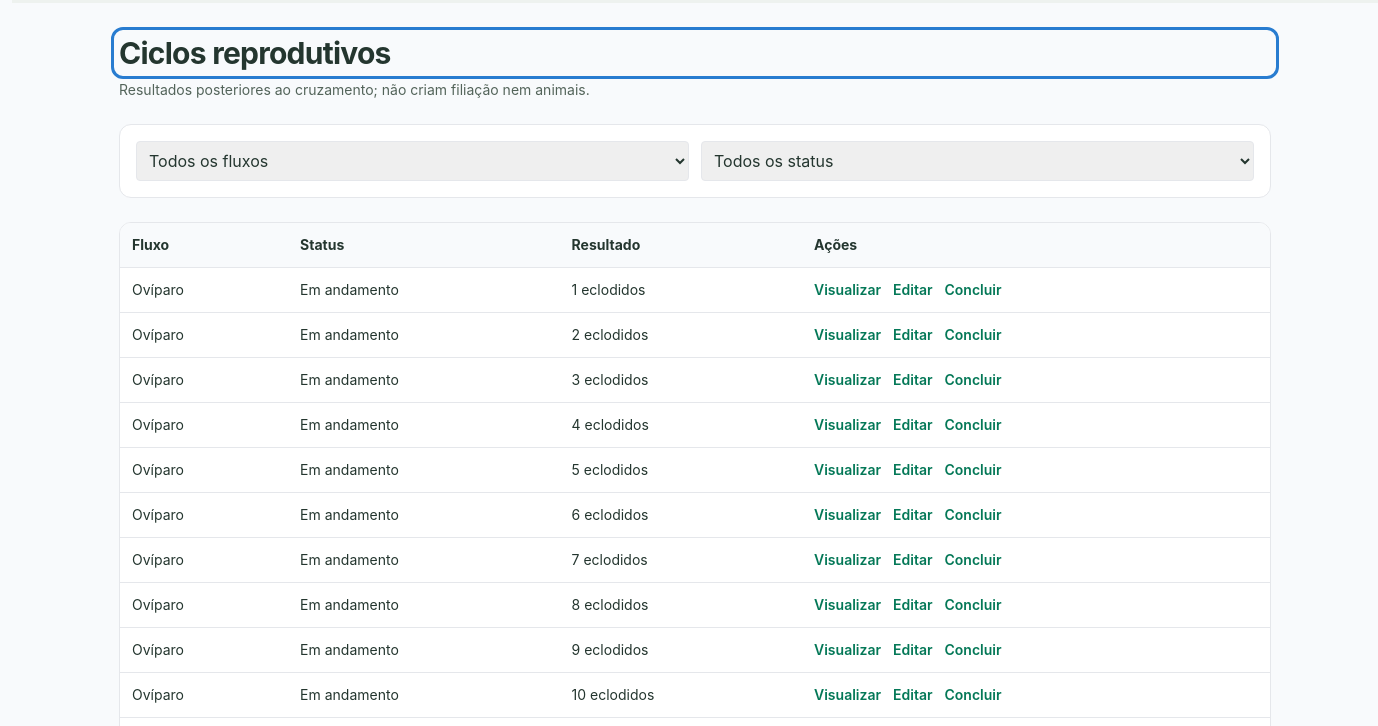
Test: ReproductiveCycleListPage pagination › keeps page and filters on a retry and distinguishes a failure from a genuinely empty list
Select "Em andamento" in the dropdown named "Status do ciclo" at (978, 161), box [701,141,1254,181]
(page scrolled)
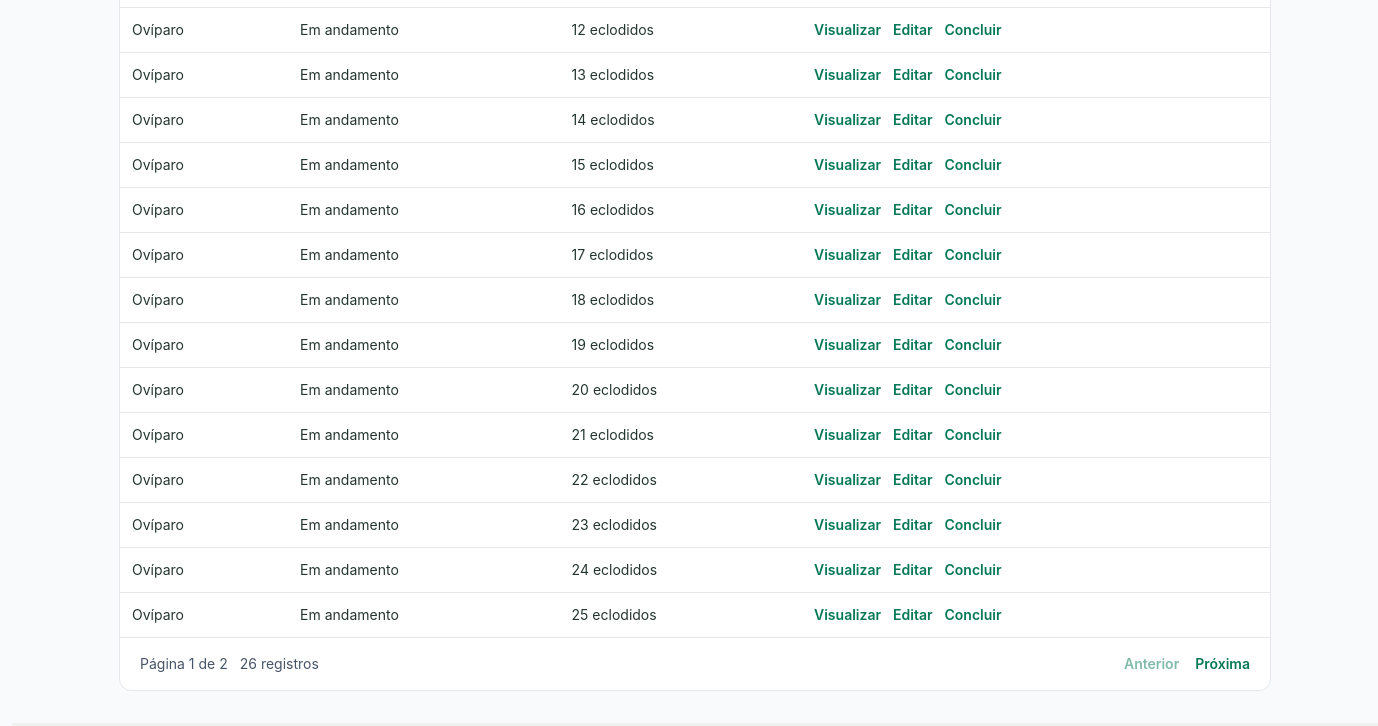
expect the text "Página 1 de 2" is shown: met, box [140,655,228,672]
Click the button "Próxima" at (1223, 664), box [1195,654,1250,674]
(page scrolled)
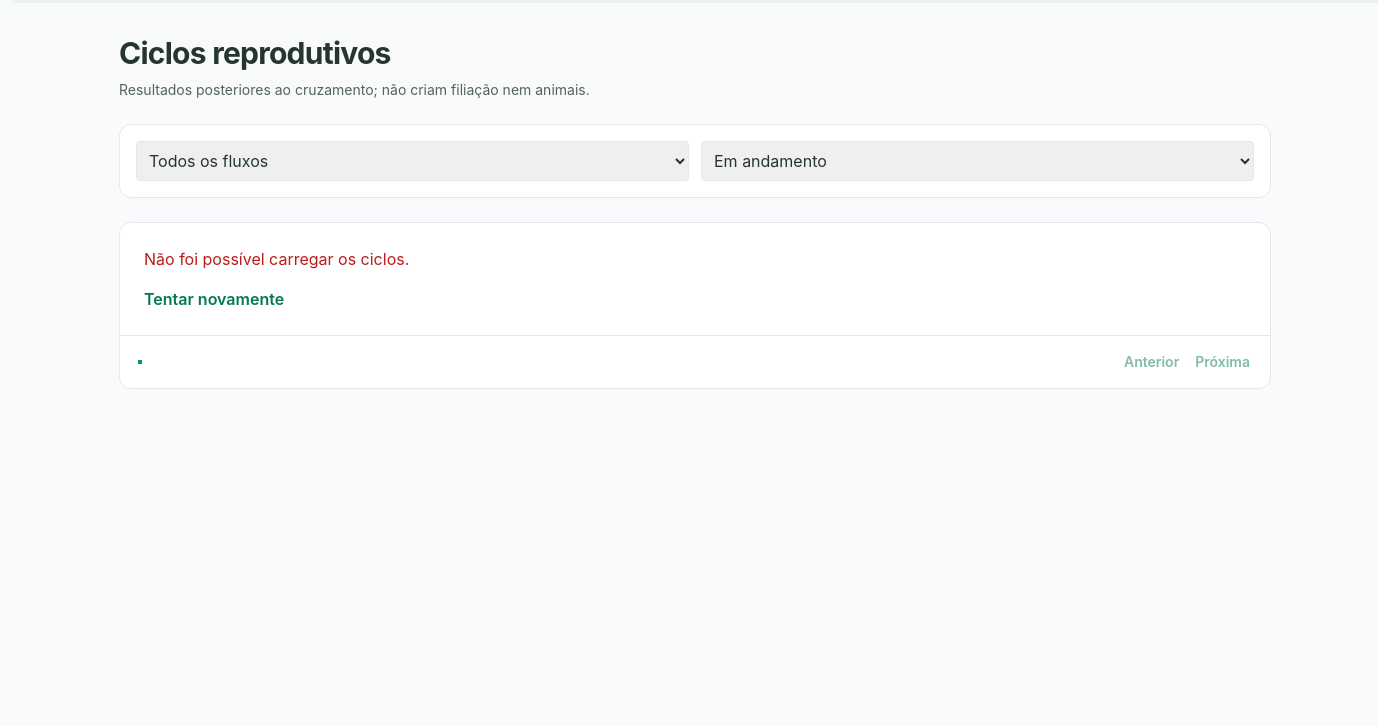
expect the text "Nenhum ciclo encontrado." is not shown: met
expect the text "25 eclodidos" is gone: met
expect the message shows "Não foi possível carregar os ciclos.": met, box [144,249,409,269]
Click the button "Tentar novamente" at (214, 299), box [144,287,284,311]
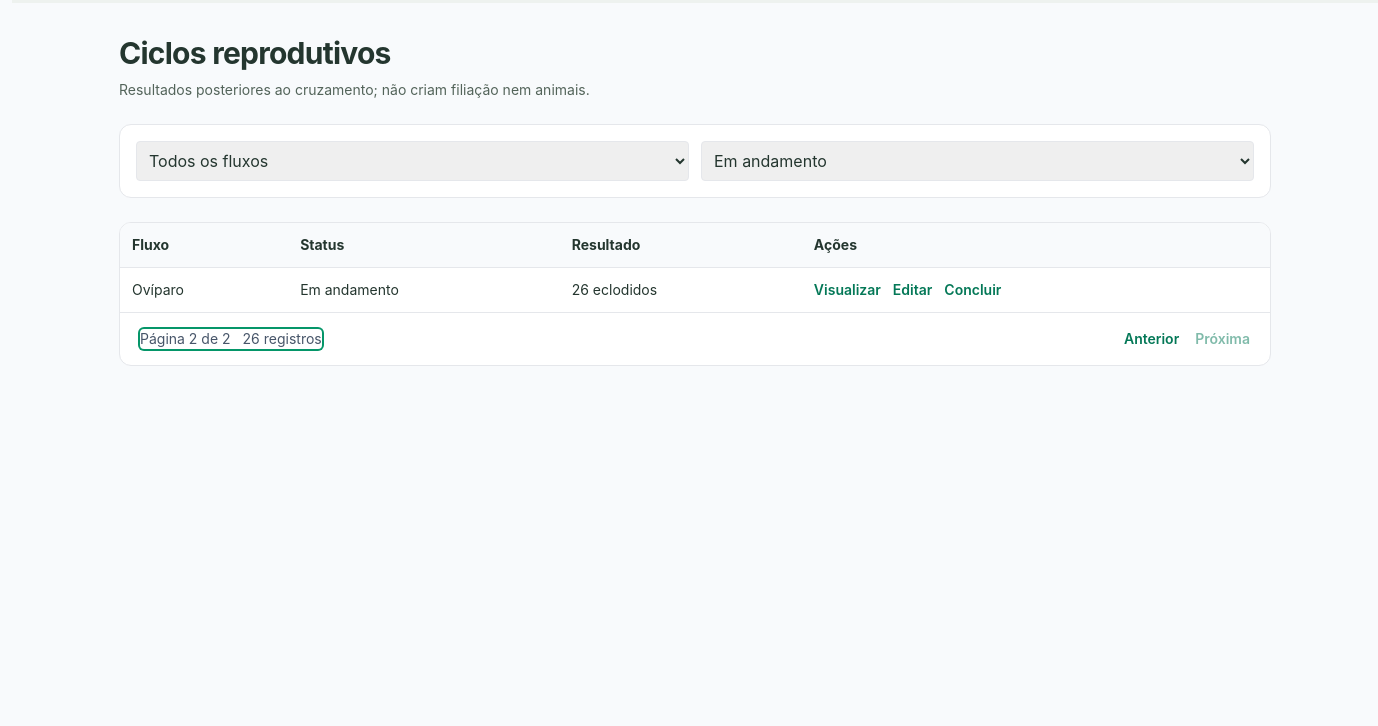
expect the text "26 eclodidos" is shown: met, box [560,268,802,312]
Select "Gestacional" in the dropdown named "Fluxo" at (412, 161), box [136,141,689,181]
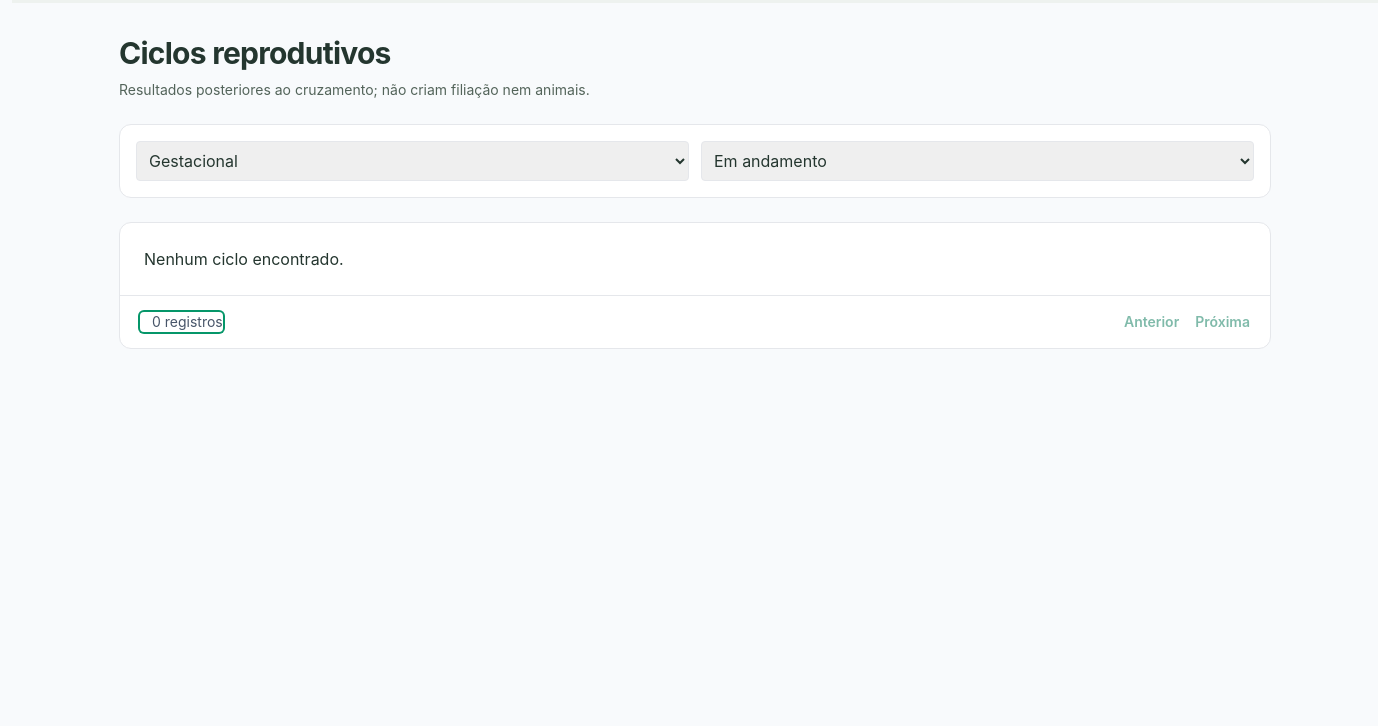
expect the text "Nenhum ciclo encontrado." is shown: met, box [144,249,344,269]
expect the text "0 registros" is shown: met, box [152,313,223,330]
expect the button "Anterior" is disabled: met, box [1124,312,1179,332]
